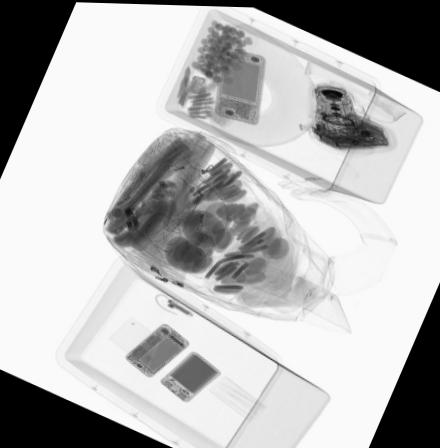Lighter: (164, 156, 199, 171)
